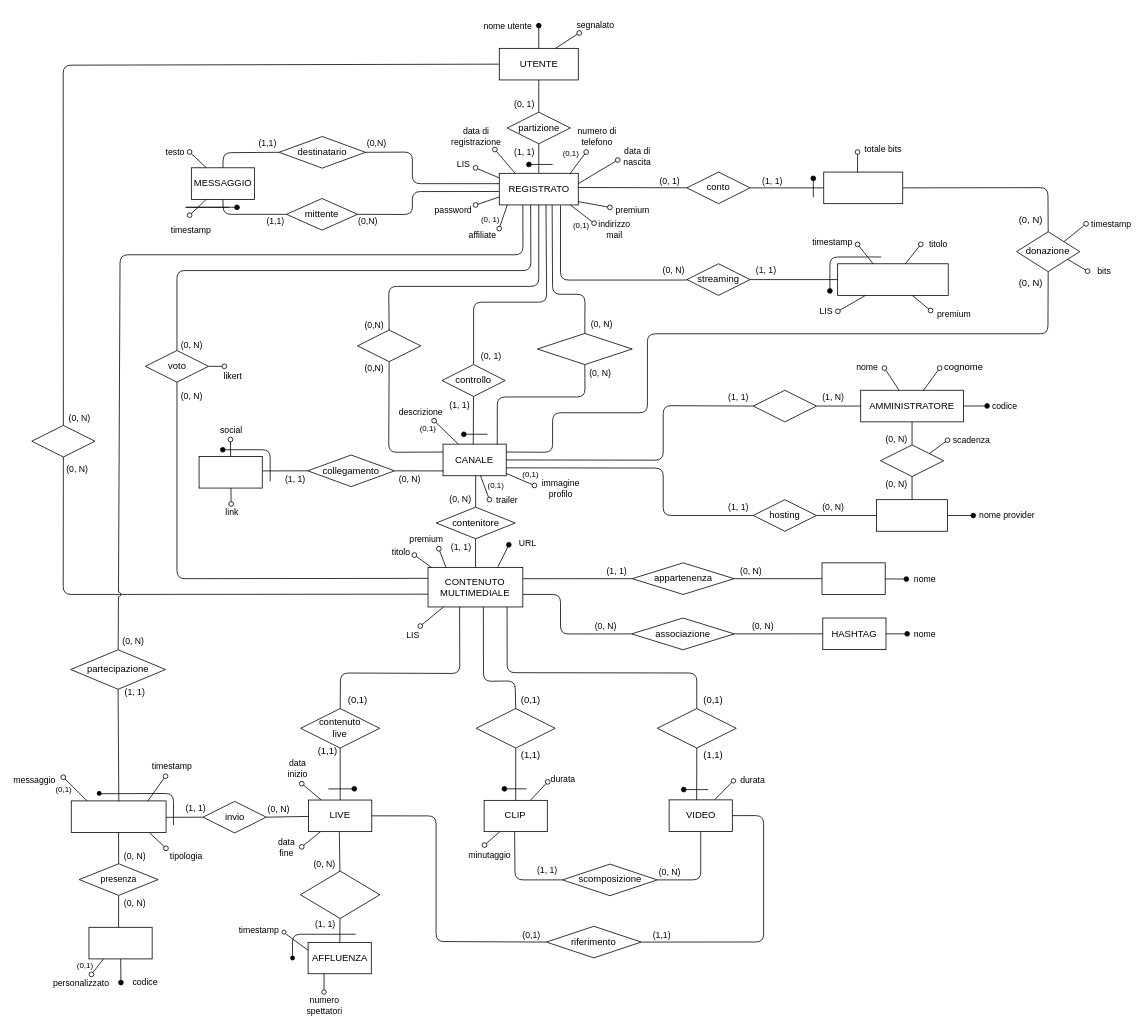
Image size: 1146x1036. Some labels were removed from this diagram. Here are the shapes that lost their labels. From the top down, the box of each, then its label:
(823, 171, 903, 204): PORTAFOGLIO
(837, 263, 948, 295): PROGRAMMAZIONE
(357, 329, 421, 362): follower
(537, 333, 632, 365): subscription
(752, 389, 816, 422): gestione
(31, 425, 95, 457): visita
(880, 444, 944, 477): rinnovo
(198, 456, 262, 488): LINK SOCIAL
(876, 499, 948, 531): PROVIDER
(821, 562, 885, 594): CATEGORIA
(475, 708, 555, 748): contenuto clip
(656, 708, 736, 748): contenuto video
(70, 800, 166, 833): INTERAZIONE
(300, 870, 380, 918): media spettatori
(88, 927, 152, 959): EMOJI
